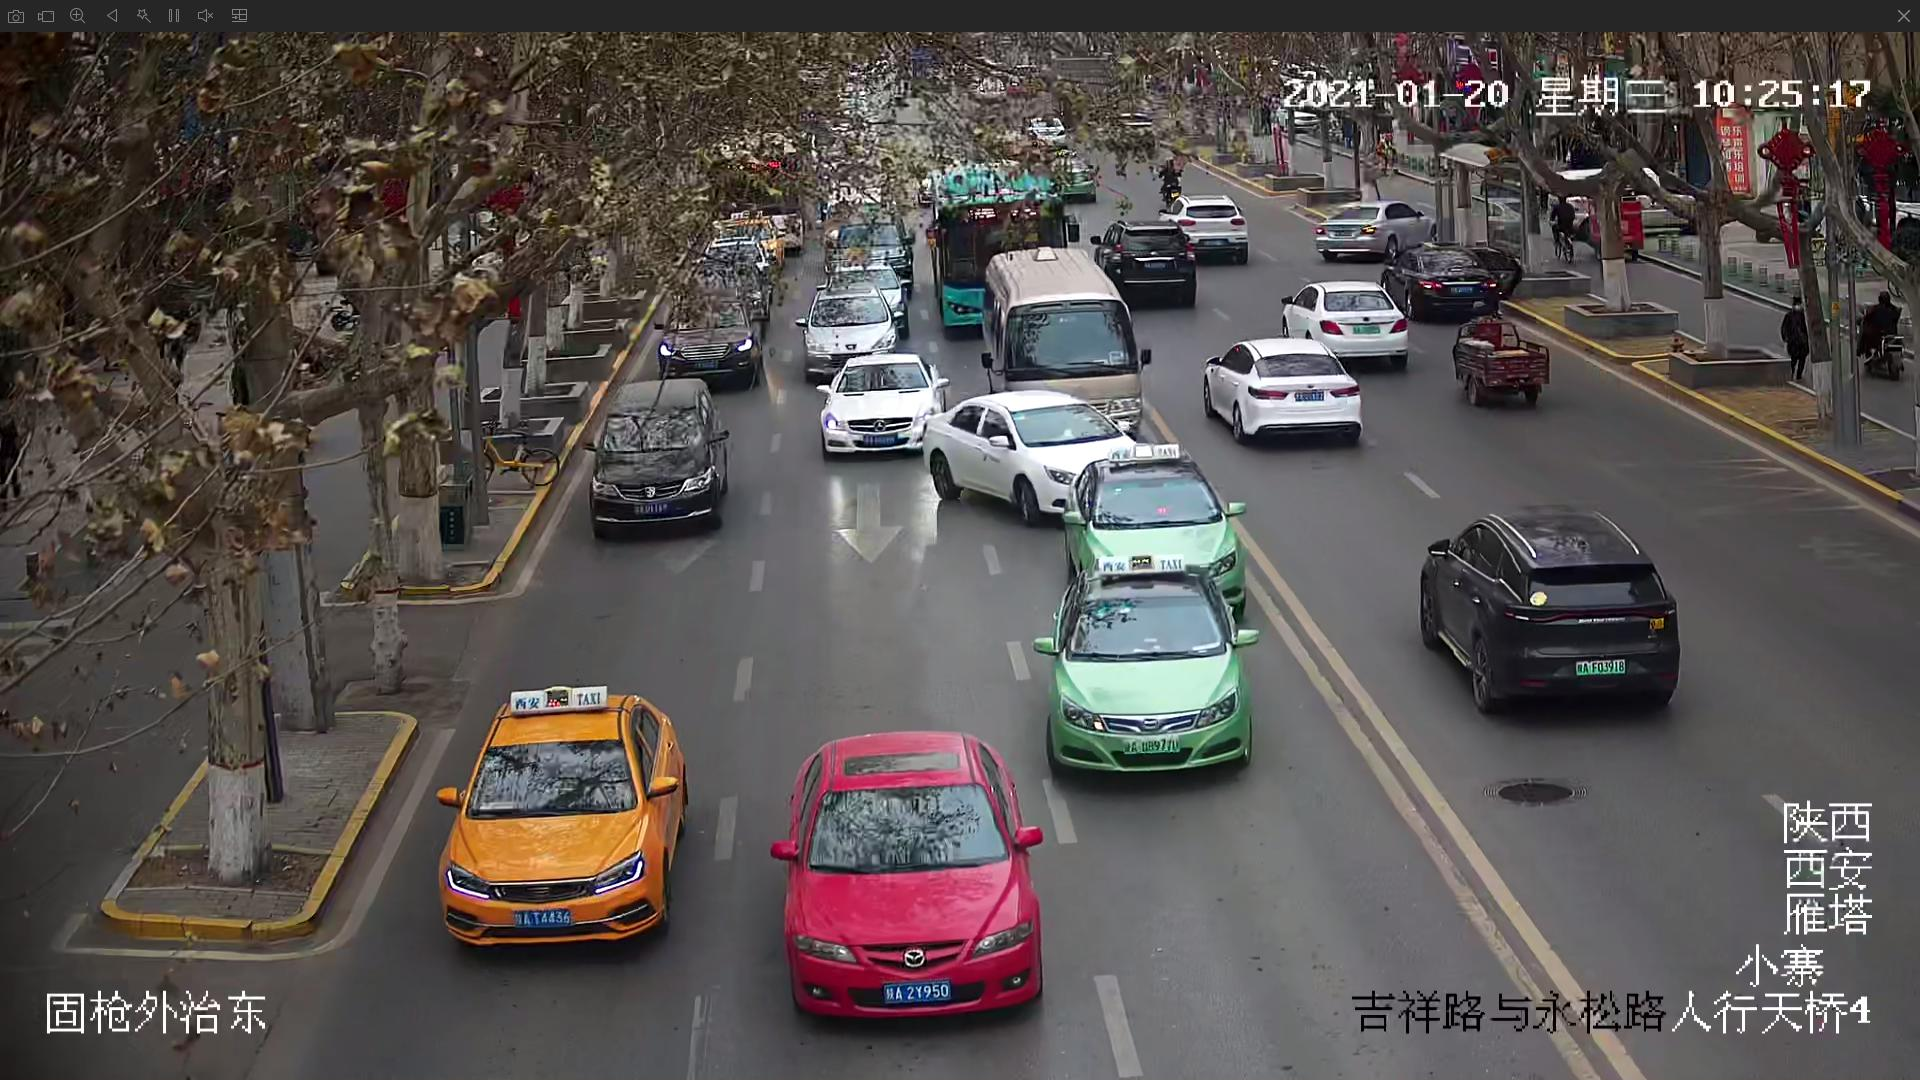black: (582, 376, 724, 534)
grass-green: (1048, 562, 1247, 785)
orange: (438, 694, 683, 944)
red: (781, 735, 1047, 1023)
